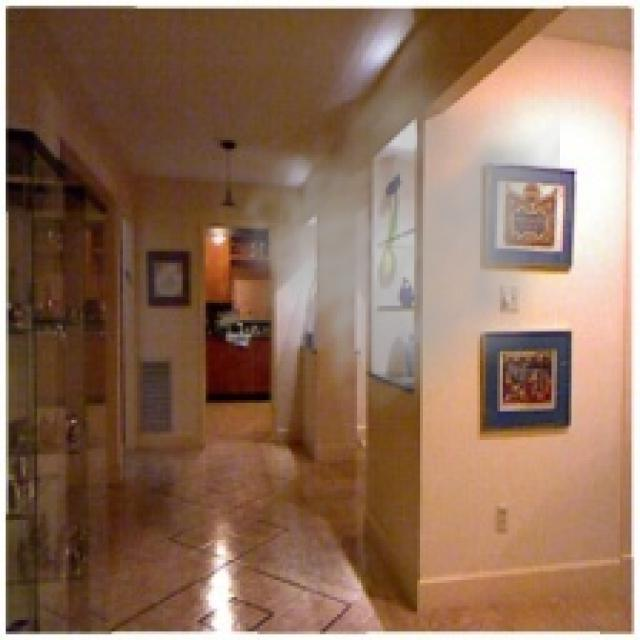smoke: (197, 54, 560, 426)
